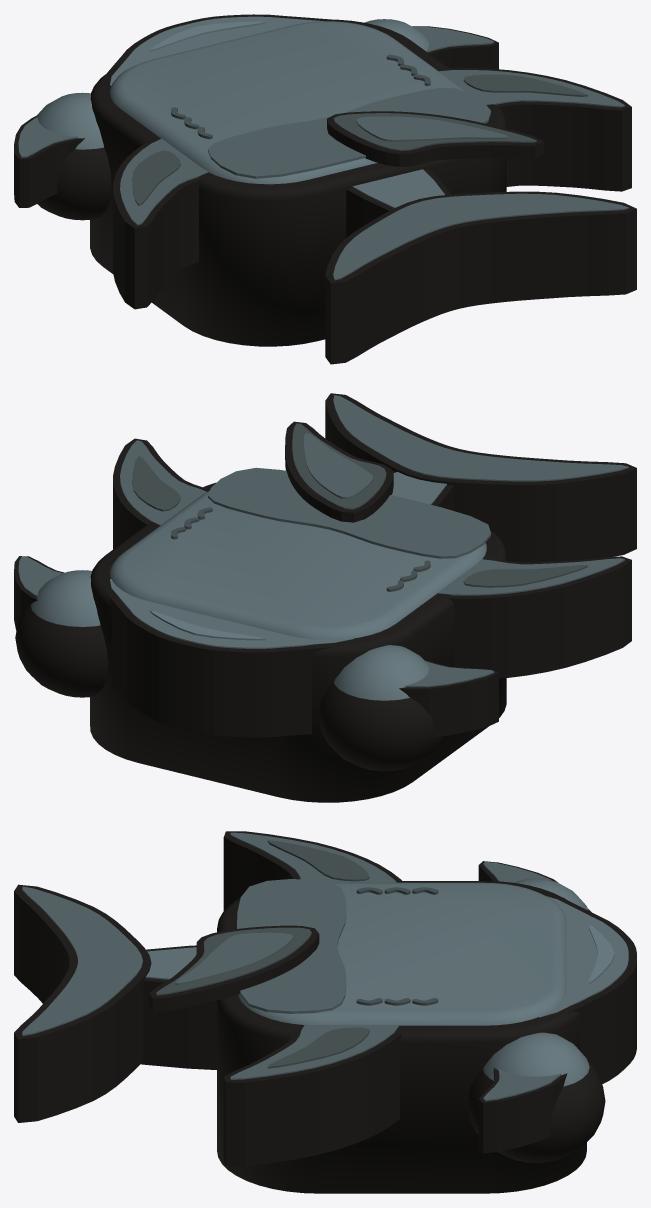
Rendered from body_tubarao.fbx.
The picture shows the model from 3 angles, top to bottom: view 1: azimuth 30°, elevation 25°; view 2: azimuth 150°, elevation 25°; view 3: azimuth 270°, elevation 25°; orthographic projection. The views are drawn at different scales.
Parts seen in each view (by area): view 1: body_tubarao_corpo, body_tubarao_mao_esq, body_tubarao_mao; view 2: body_tubarao_corpo, body_tubarao_mao_esq, body_tubarao_mao; view 3: body_tubarao_corpo, body_tubarao_mao, body_tubarao_mao_esq.
Part boxes in pixels (x1,y1,x2,y2): body_tubarao_corpo: (90, 14, 636, 364); body_tubarao_mao_esq: (14, 92, 111, 220); body_tubarao_mao: (365, 19, 498, 69); body_tubarao_corpo: (90, 393, 636, 802); body_tubarao_mao_esq: (318, 645, 498, 771); body_tubarao_mao: (14, 556, 108, 697); body_tubarao_corpo: (14, 831, 636, 1193); body_tubarao_mao: (467, 1032, 605, 1162); body_tubarao_mao_esq: (478, 861, 590, 911).
Size of the model in its own units: 6.42 by 2.19 by 6.73.
Materials: 1 (1 with a texture image).
